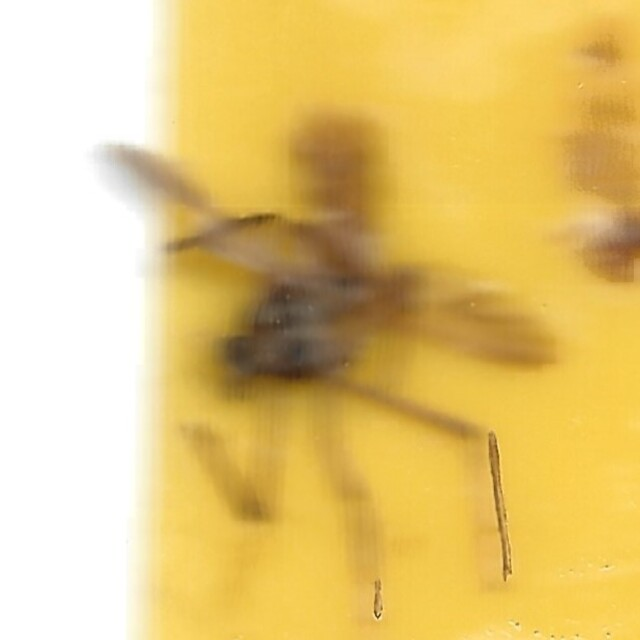Nematocera: (103, 109, 537, 531)
